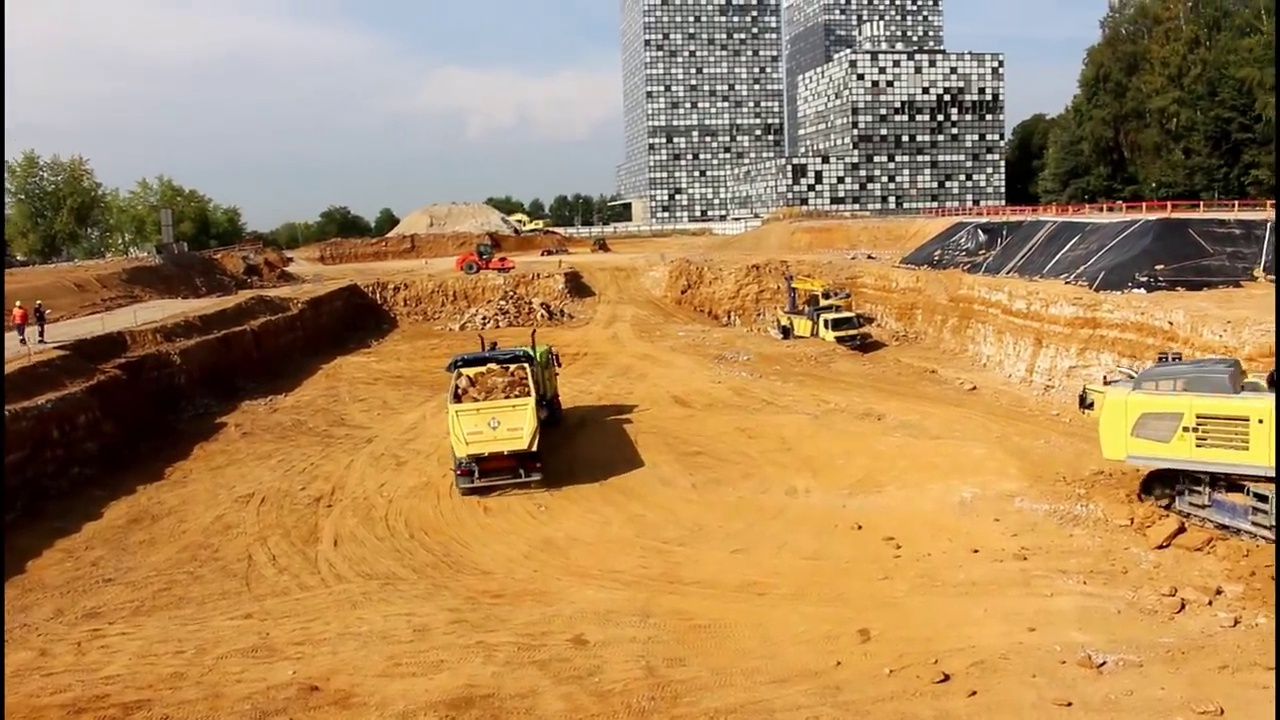excavator: (1079, 349, 1280, 541), (783, 270, 853, 307)
person: (31, 295, 49, 345), (13, 302, 25, 346)
truck: (442, 344, 565, 492), (782, 306, 865, 350)
